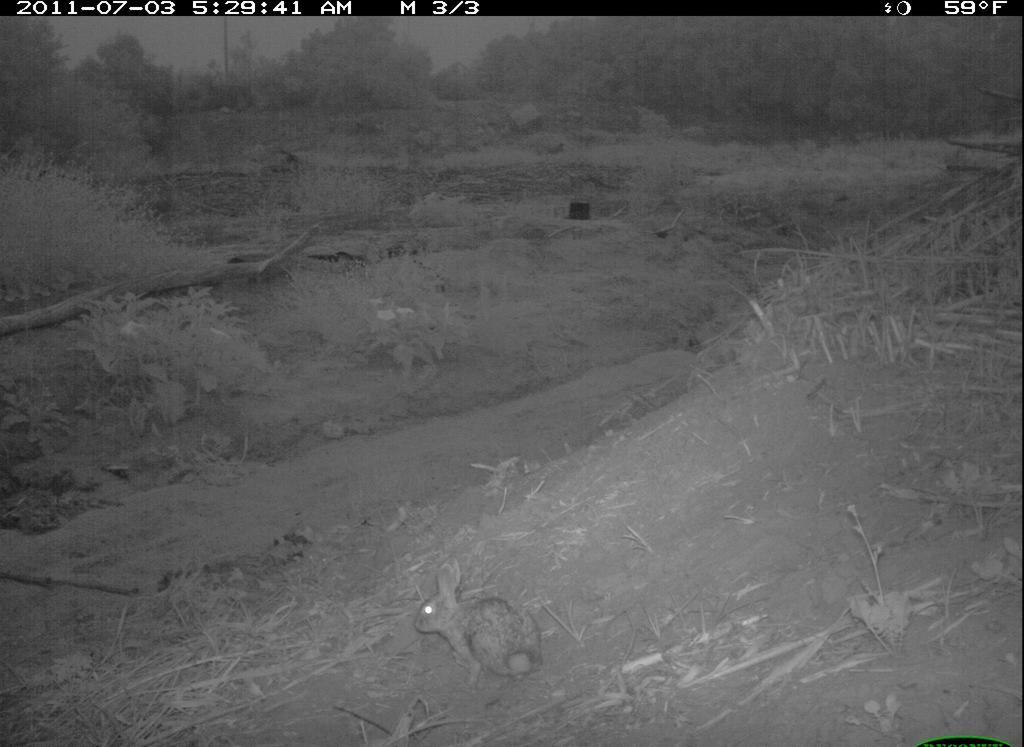rabbit: (379, 543, 585, 703)
